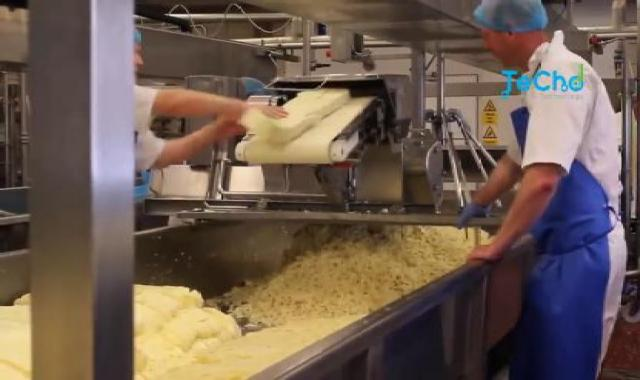hairnet: (457, 0, 553, 37)
